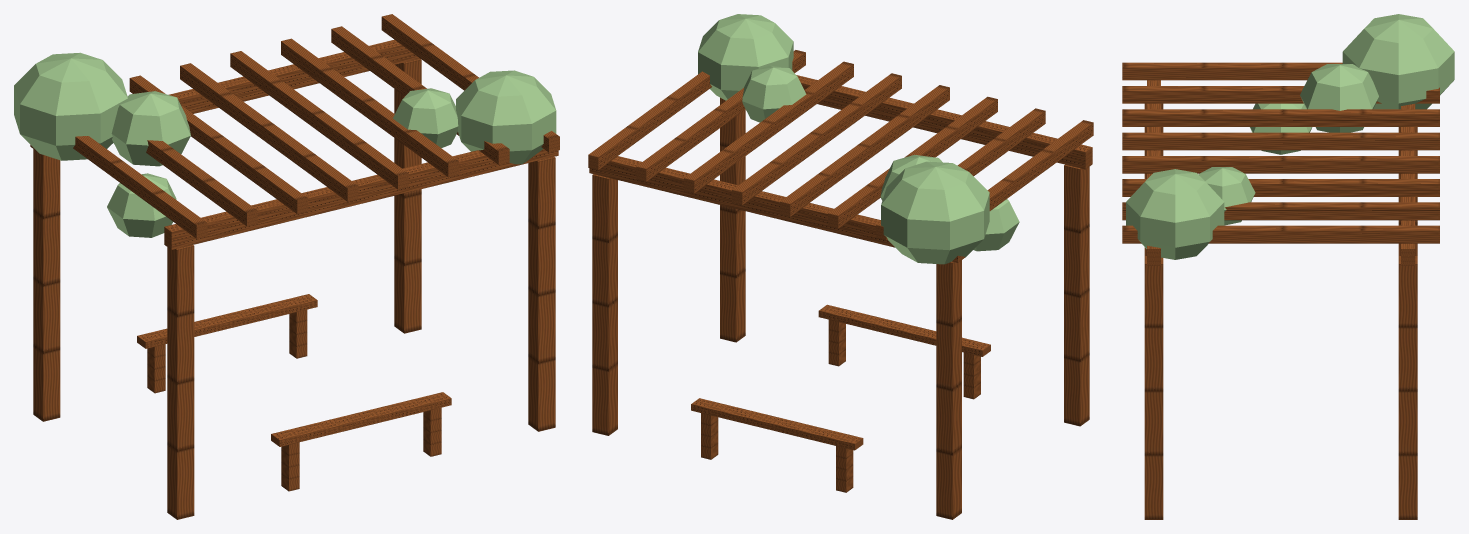
The model's file is city-park-and-playground-pergola-f44394ba.glb.
The picture shows the model from 3 angles, left to right: view 1: azimuth 30°, elevation 25°; view 2: azimuth 150°, elevation 25°; view 3: azimuth 270°, elevation 25°; orthographic projection. The views are drawn at different scales.
Parts seen in each view (by area): view 1: pergola-timber, pergola-grass; view 2: pergola-timber, pergola-grass; view 3: pergola-timber, pergola-grass.
Boxes of the visible parts, left/top/right/bottom form: pergola-timber: left=30, top=14, right=559, bottom=519; pergola-grass: left=14, top=52, right=556, bottom=237; pergola-timber: left=588, top=50, right=1093, bottom=519; pergola-grass: left=698, top=14, right=1019, bottom=264; pergola-timber: left=1122, top=62, right=1439, bottom=519; pergola-grass: left=1126, top=14, right=1454, bottom=259.
Size of the model in its own units: 3.84 by 3.17 by 2.83.
Materials: 2 (1 with a texture image).
